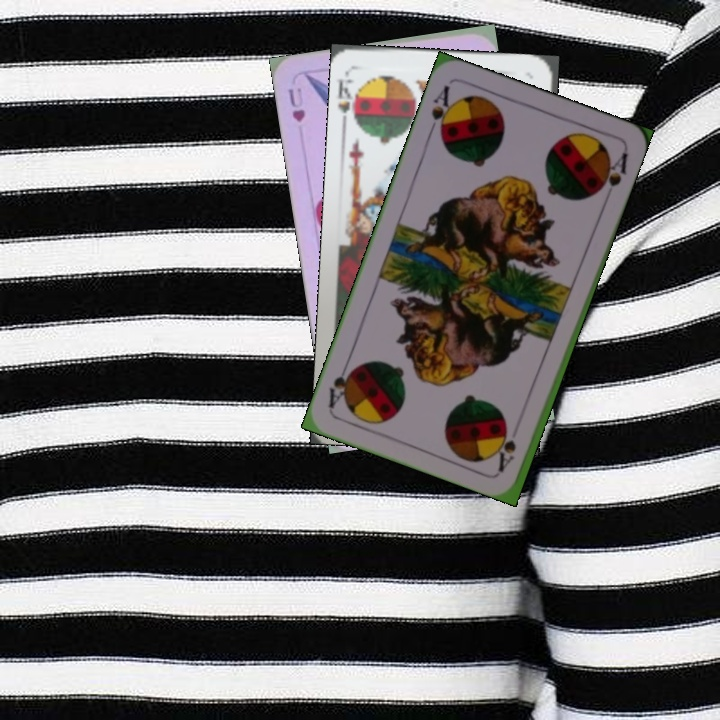HU: (284, 85, 308, 124)
SA: (424, 81, 456, 141), (494, 435, 519, 474)
SK: (335, 74, 363, 129)
